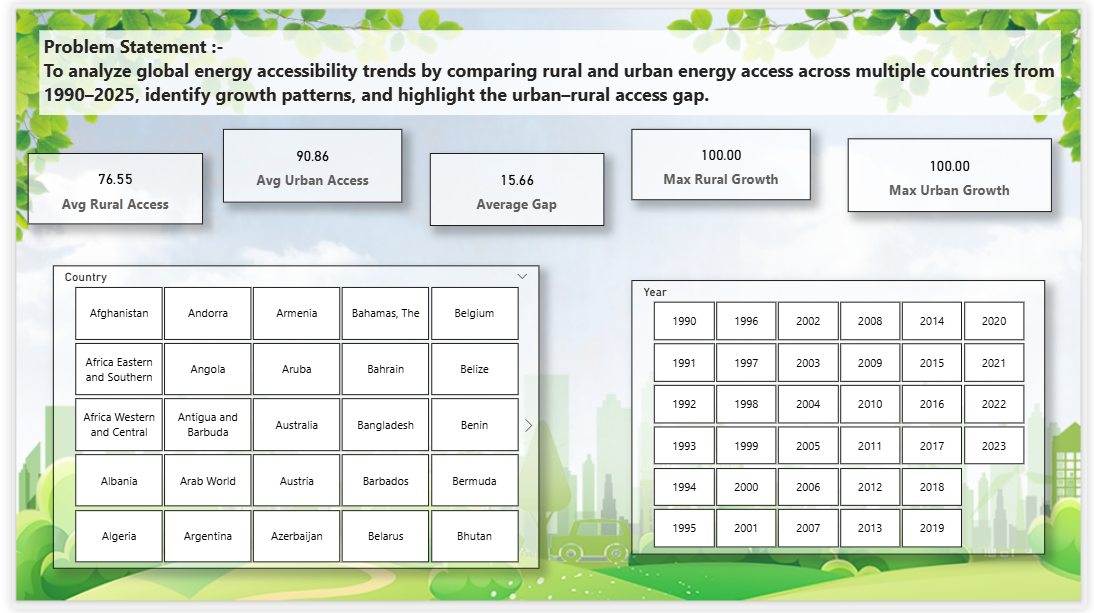

This screenshot's page, from the dashboard's own definition file:
{"tool":"powerbi","page":{"name":"Page 1","canvas":[1280,720],"ordinal":0},"visuals":[{"type":"card","fields":{"Values":["Ftable.Avg Rural Access"]},"box":[18.8,177.5,208.8,85],"z":0},{"type":"slicer","fields":{"Values":["Ftable.Country"]},"box":[48.8,311.2,578.8,361.2],"z":1000},{"type":"slicer","fields":{"Values":["Ftable.Year"]},"box":[737.5,328.8,492.5,326.2],"z":2000},{"type":"card","fields":{"Values":["Ftable.Max Rural Growth"]},"box":[737.5,148.8,213.8,85],"z":2001},{"type":"card","fields":{"Values":["Ftable.Average Gap"]},"box":[497.5,177.5,207.5,86.2],"z":2002},{"type":"card","fields":{"Values":["Ftable.Max Urban Growth"]},"box":[995,160,242.5,87.5],"z":2003},{"type":"card","fields":{"Values":["Ftable.Avg Urban Access"]},"box":[251.2,148.8,213.8,87.5],"z":2004},{"type":"textbox","box":[32.5,31.2,1216.2,101.2],"z":2005}]}

Visuals, with their boxes in screenshot pixels (x1, y1, x2, y2), scaled from the page's 1280x720 canvas onto the 1094x613 screenshot:
card - Ftable.Avg Rural Access: (16,151,195,223)
slicer - Ftable.Country: (42,265,536,572)
slicer - Ftable.Year: (630,280,1051,558)
card - Ftable.Max Rural Growth: (630,127,813,199)
card - Ftable.Average Gap: (425,151,603,225)
card - Ftable.Max Urban Growth: (850,136,1058,211)
card - Ftable.Avg Urban Access: (215,127,397,201)
textbox: (28,27,1067,113)
